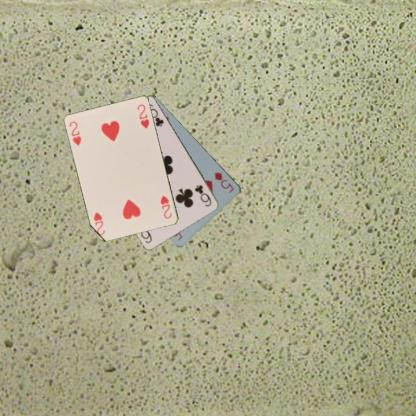2h: (67, 118, 83, 147), (158, 193, 172, 220)
5d: (212, 169, 236, 195)
6c: (192, 182, 212, 208)
